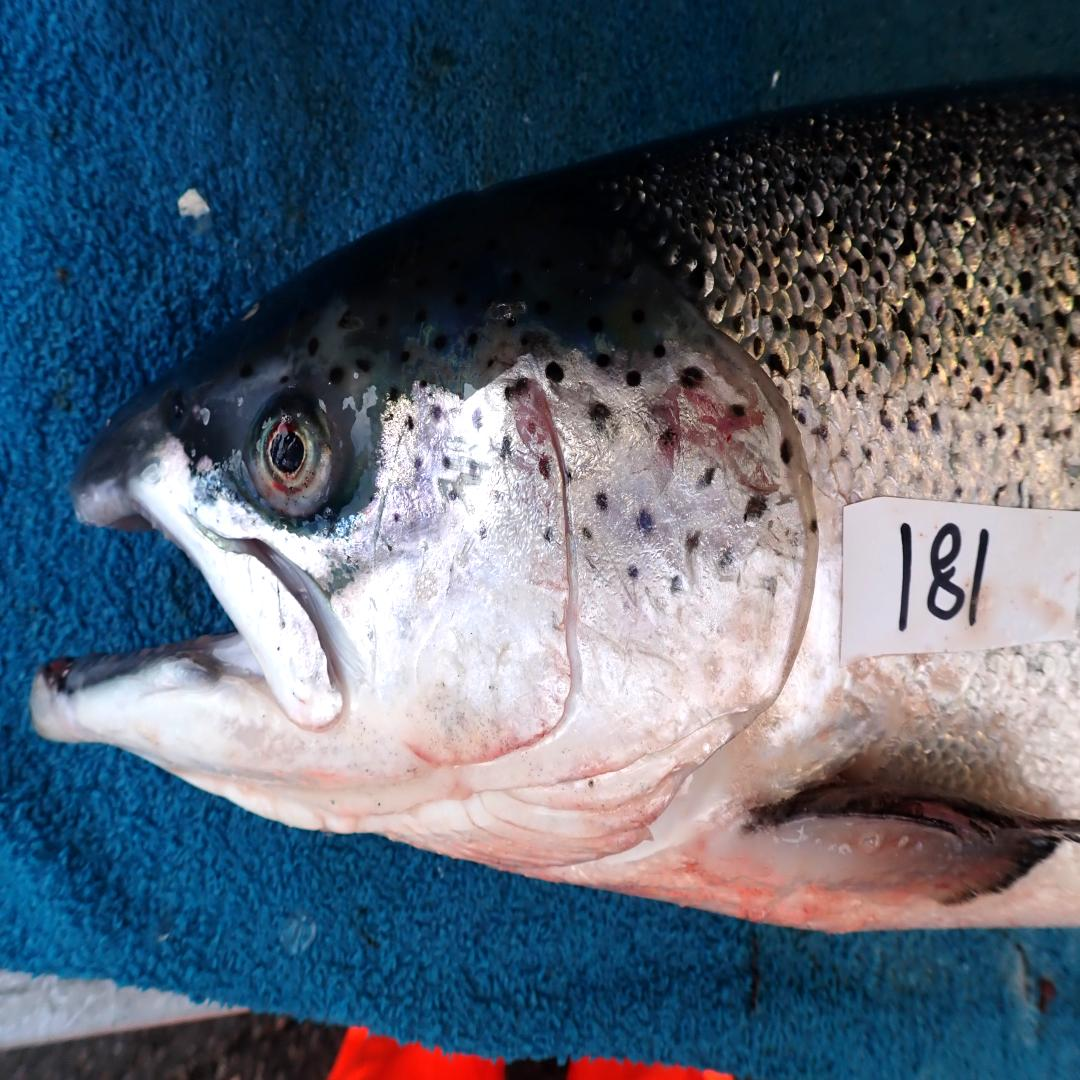roi: (343, 336, 815, 879)
